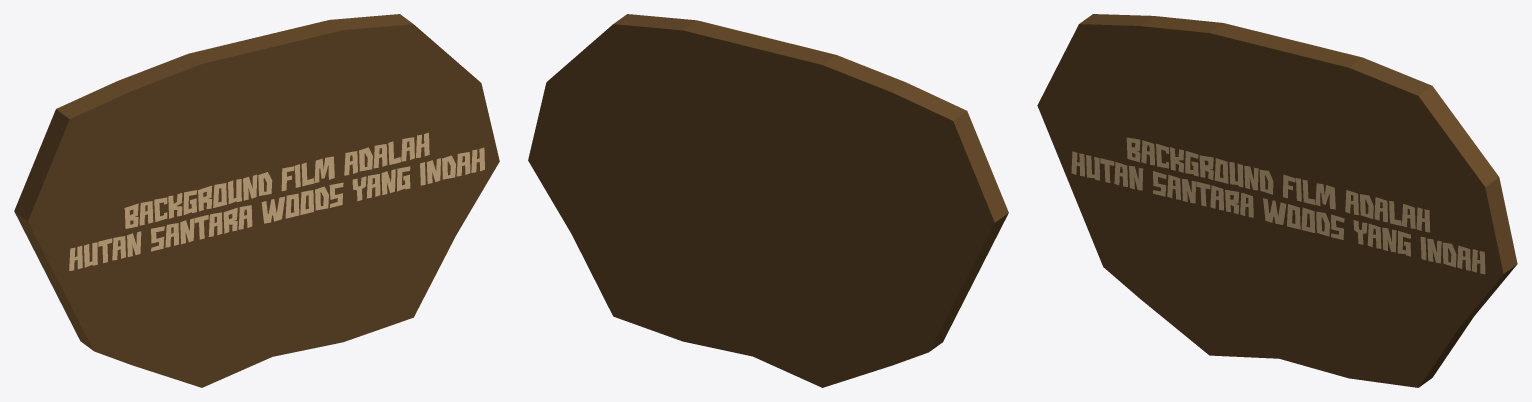
The model's file is ui_4_ficusia.fbx.
The picture shows the model from 3 angles, left to right: view 1: azimuth 30°, elevation 25°; view 2: azimuth 150°, elevation 25°; view 3: azimuth 330°, elevation 25°; orthographic projection.
Parts seen in each view (by area): view 1: Cube.003, Text.002; view 2: Cube.003; view 3: Cube.003, Text.002.
Part boxes in pixels (box(x1,y1,x2,y2)): Cube.003: box(14, 14, 499, 387); Text.002: box(69, 132, 484, 270); Cube.003: box(528, 14, 1008, 387); Cube.003: box(1037, 14, 1517, 387); Text.002: box(1071, 137, 1485, 274).
Bounding box in the file's own units: 256 × 168 × 16.5.
